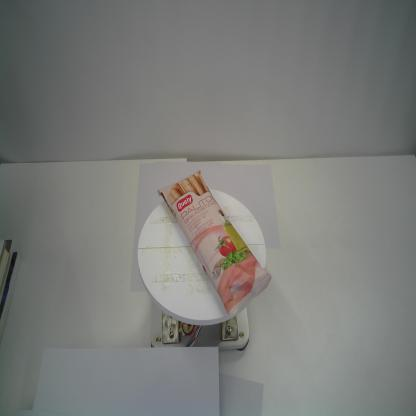Dessert: (157, 168, 272, 317)
